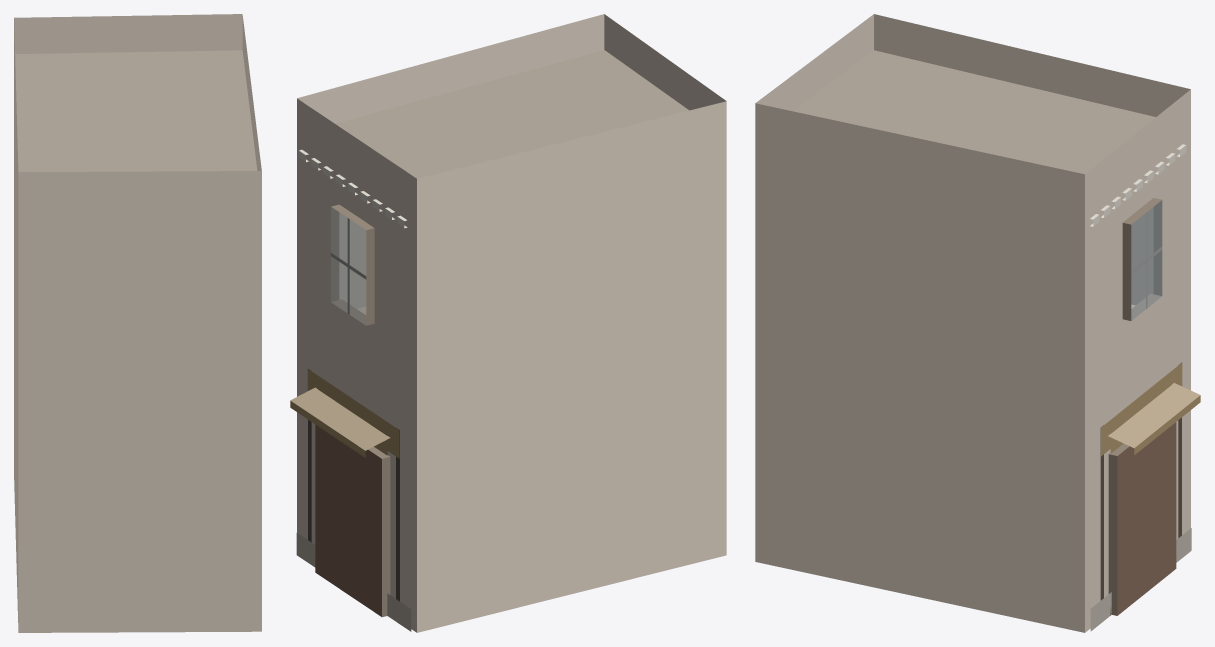
The model's file is N-50.north_front_two_storey_flat.glb.
3 views of the same model, side by side, from view 1: azimuth 30°, elevation 25°; view 2: azimuth 150°, elevation 25°; view 3: azimuth 270°, elevation 25° (orthographic).
Parts seen in each view (by area): view 1: N-50.north_front_two_storey_flat; view 2: N-50.north_front_two_storey_flat; view 3: N-50.north_front_two_storey_flat.
Boxes of the visible parts, x1,y1,x2,y2 form: N-50.north_front_two_storey_flat: [14, 14, 261, 632]; N-50.north_front_two_storey_flat: [290, 14, 726, 632]; N-50.north_front_two_storey_flat: [755, 14, 1200, 632].
Bounding box in the file's own units: 5.7 × 7.6 × 6.69.
